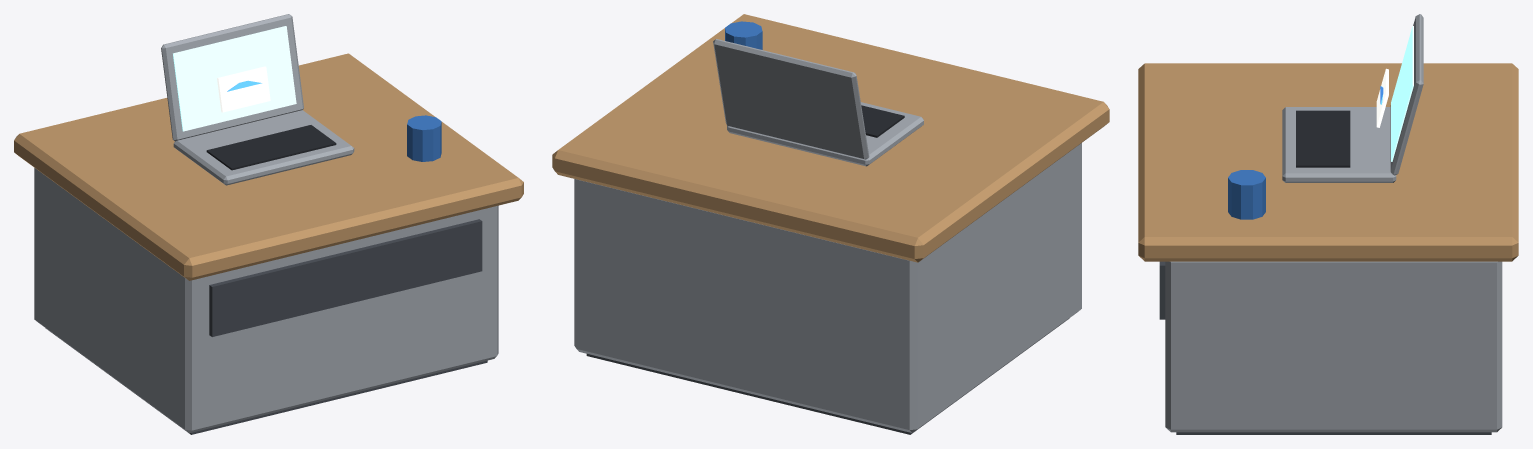
Rendered from autoreply_1.glb.
3 views of the same model, side by side, from view 1: azimuth 30°, elevation 25°; view 2: azimuth 150°, elevation 25°; view 3: azimuth 270°, elevation 25° (orthographic). The views are drawn at different scales.
Visible parts, largest first — view 1: autoreply_1_mesh_Desk, autoreply_1_mesh; view 2: autoreply_1_mesh_Desk, autoreply_1_mesh; view 3: autoreply_1_mesh_Desk, autoreply_1_mesh.
Part boxes in pixels (x1,y1,x2,y2): autoreply_1_mesh_Desk: (14,53,523,434); autoreply_1_mesh: (161,14,441,185); autoreply_1_mesh_Desk: (552,14,1109,434); autoreply_1_mesh: (713,21,923,166); autoreply_1_mesh_Desk: (1138,63,1518,434); autoreply_1_mesh: (1228,14,1423,219).
Size of the model in its own units: 0.78 by 0.6292 by 0.7.
